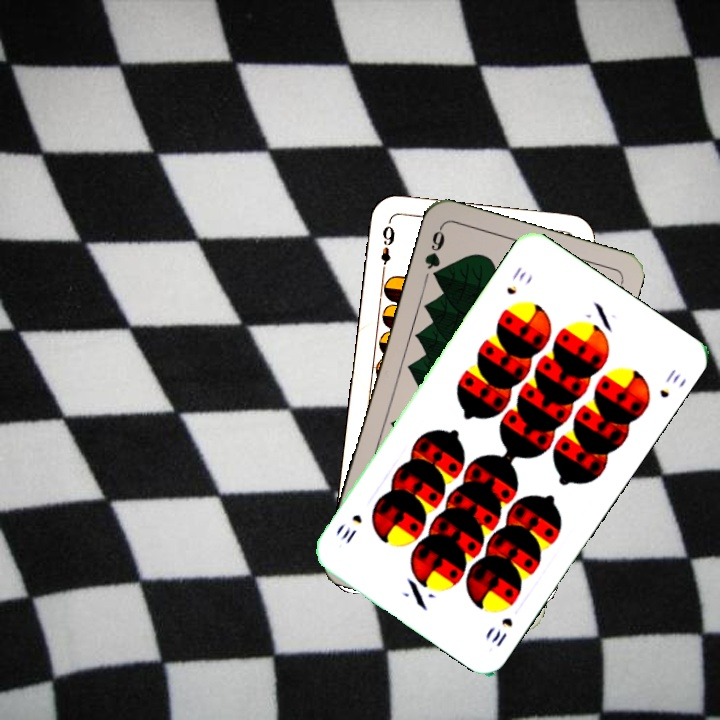E9: (377, 219, 398, 278)
G9: (420, 223, 448, 284)
S10: (487, 613, 516, 650), (502, 262, 529, 298)
